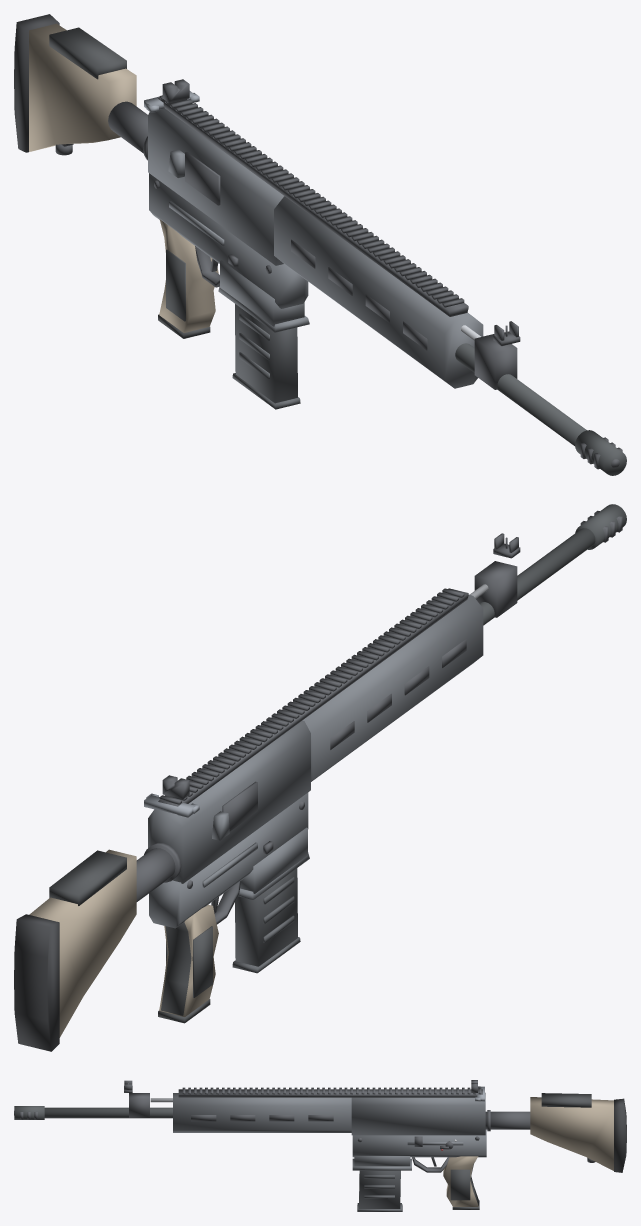
Rendered from battle.glb.
3 views of the same model, one above another, from view 1: azimuth 30°, elevation 25°; view 2: azimuth 150°, elevation 25°; view 3: azimuth 270°, elevation 25° (orthographic). The views are drawn at different scales.
Visible parts, largest first — view 1: body, mag; view 2: body, mag; view 3: body, mag.
Boxes of the visible parts, <box> form: body: <box>14,14,626,475</box>; mag: <box>232,304,300,409</box>; body: <box>14,504,626,1051</box>; mag: <box>232,868,300,973</box>; body: <box>14,1080,626,1209</box>; mag: <box>357,1170,402,1211</box>.
Size of the model in its own units: 0.054 by 0.249 by 1.1.
